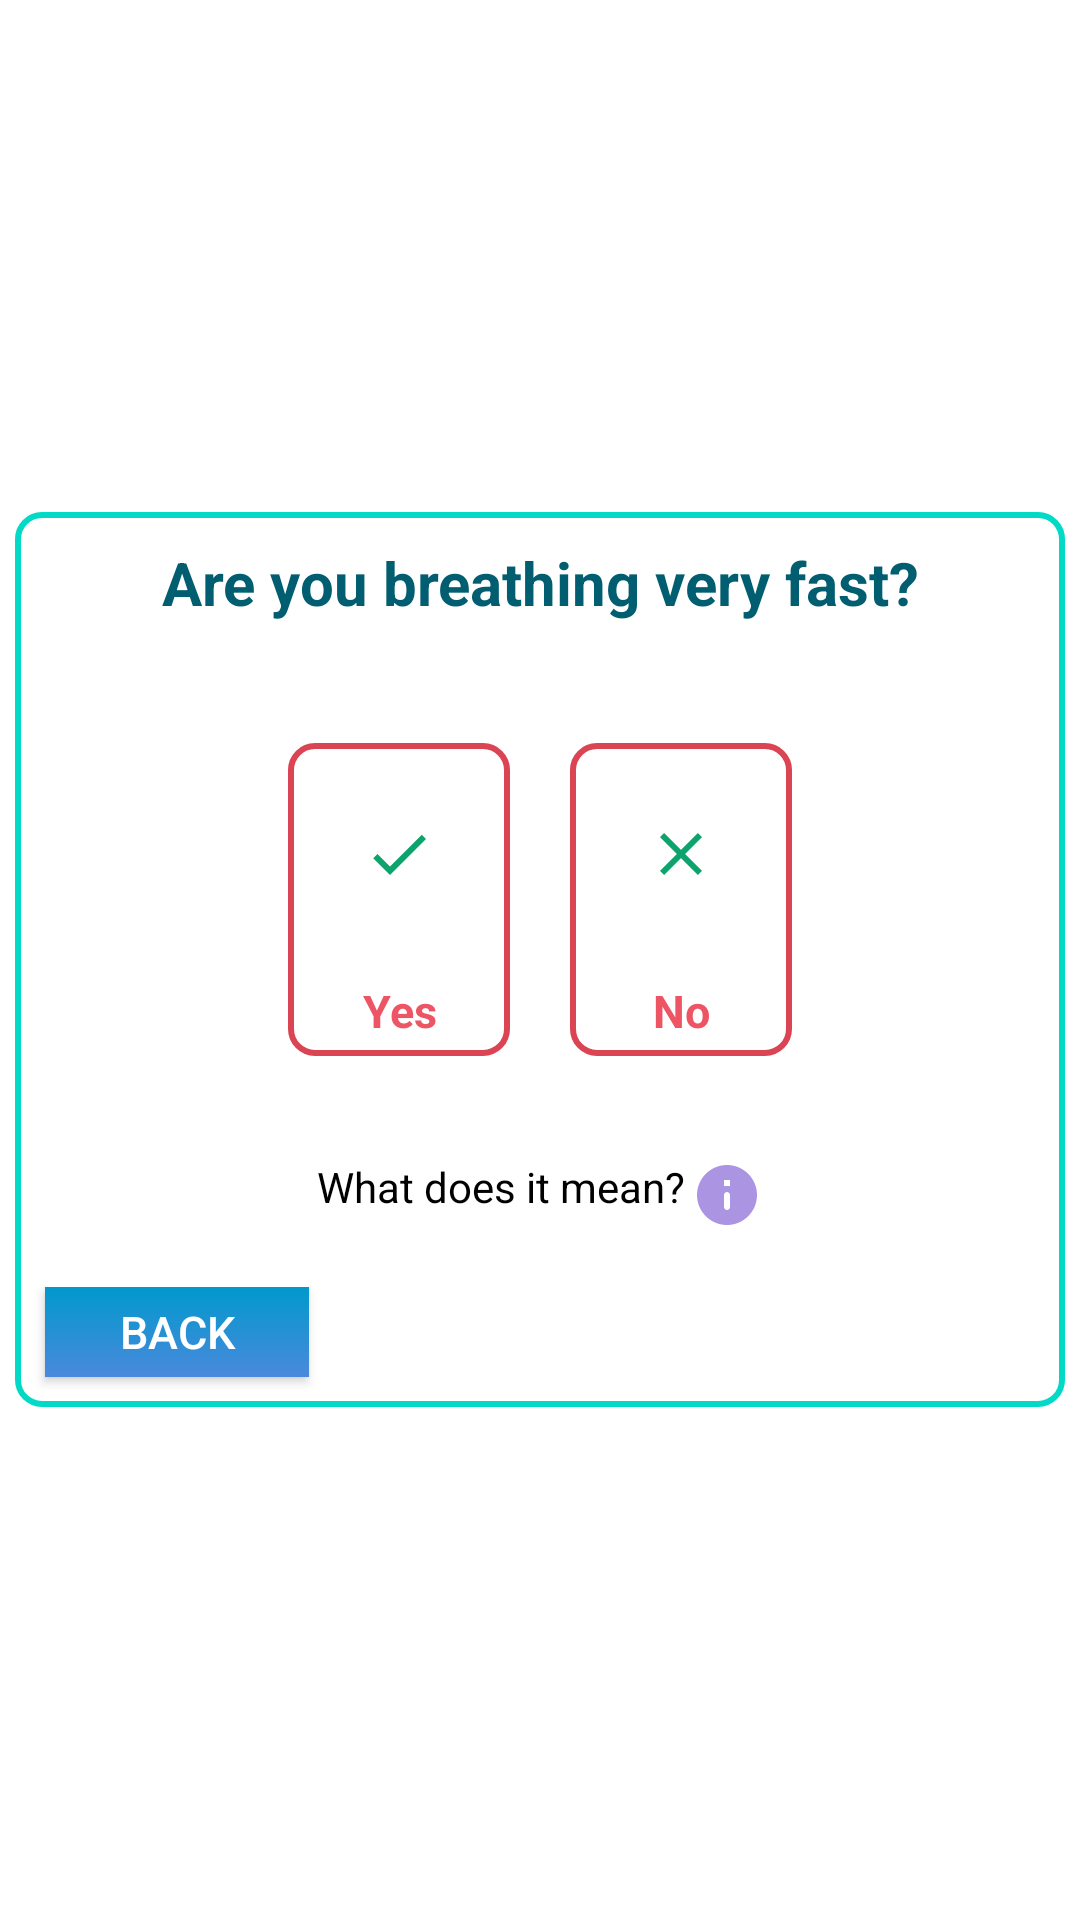

Icons on this 1080*1920 Android screen, each with its box as (x1, y1, x2, y2):
close: (660, 833, 702, 875)
moreinfo: (697, 1165, 757, 1225)
